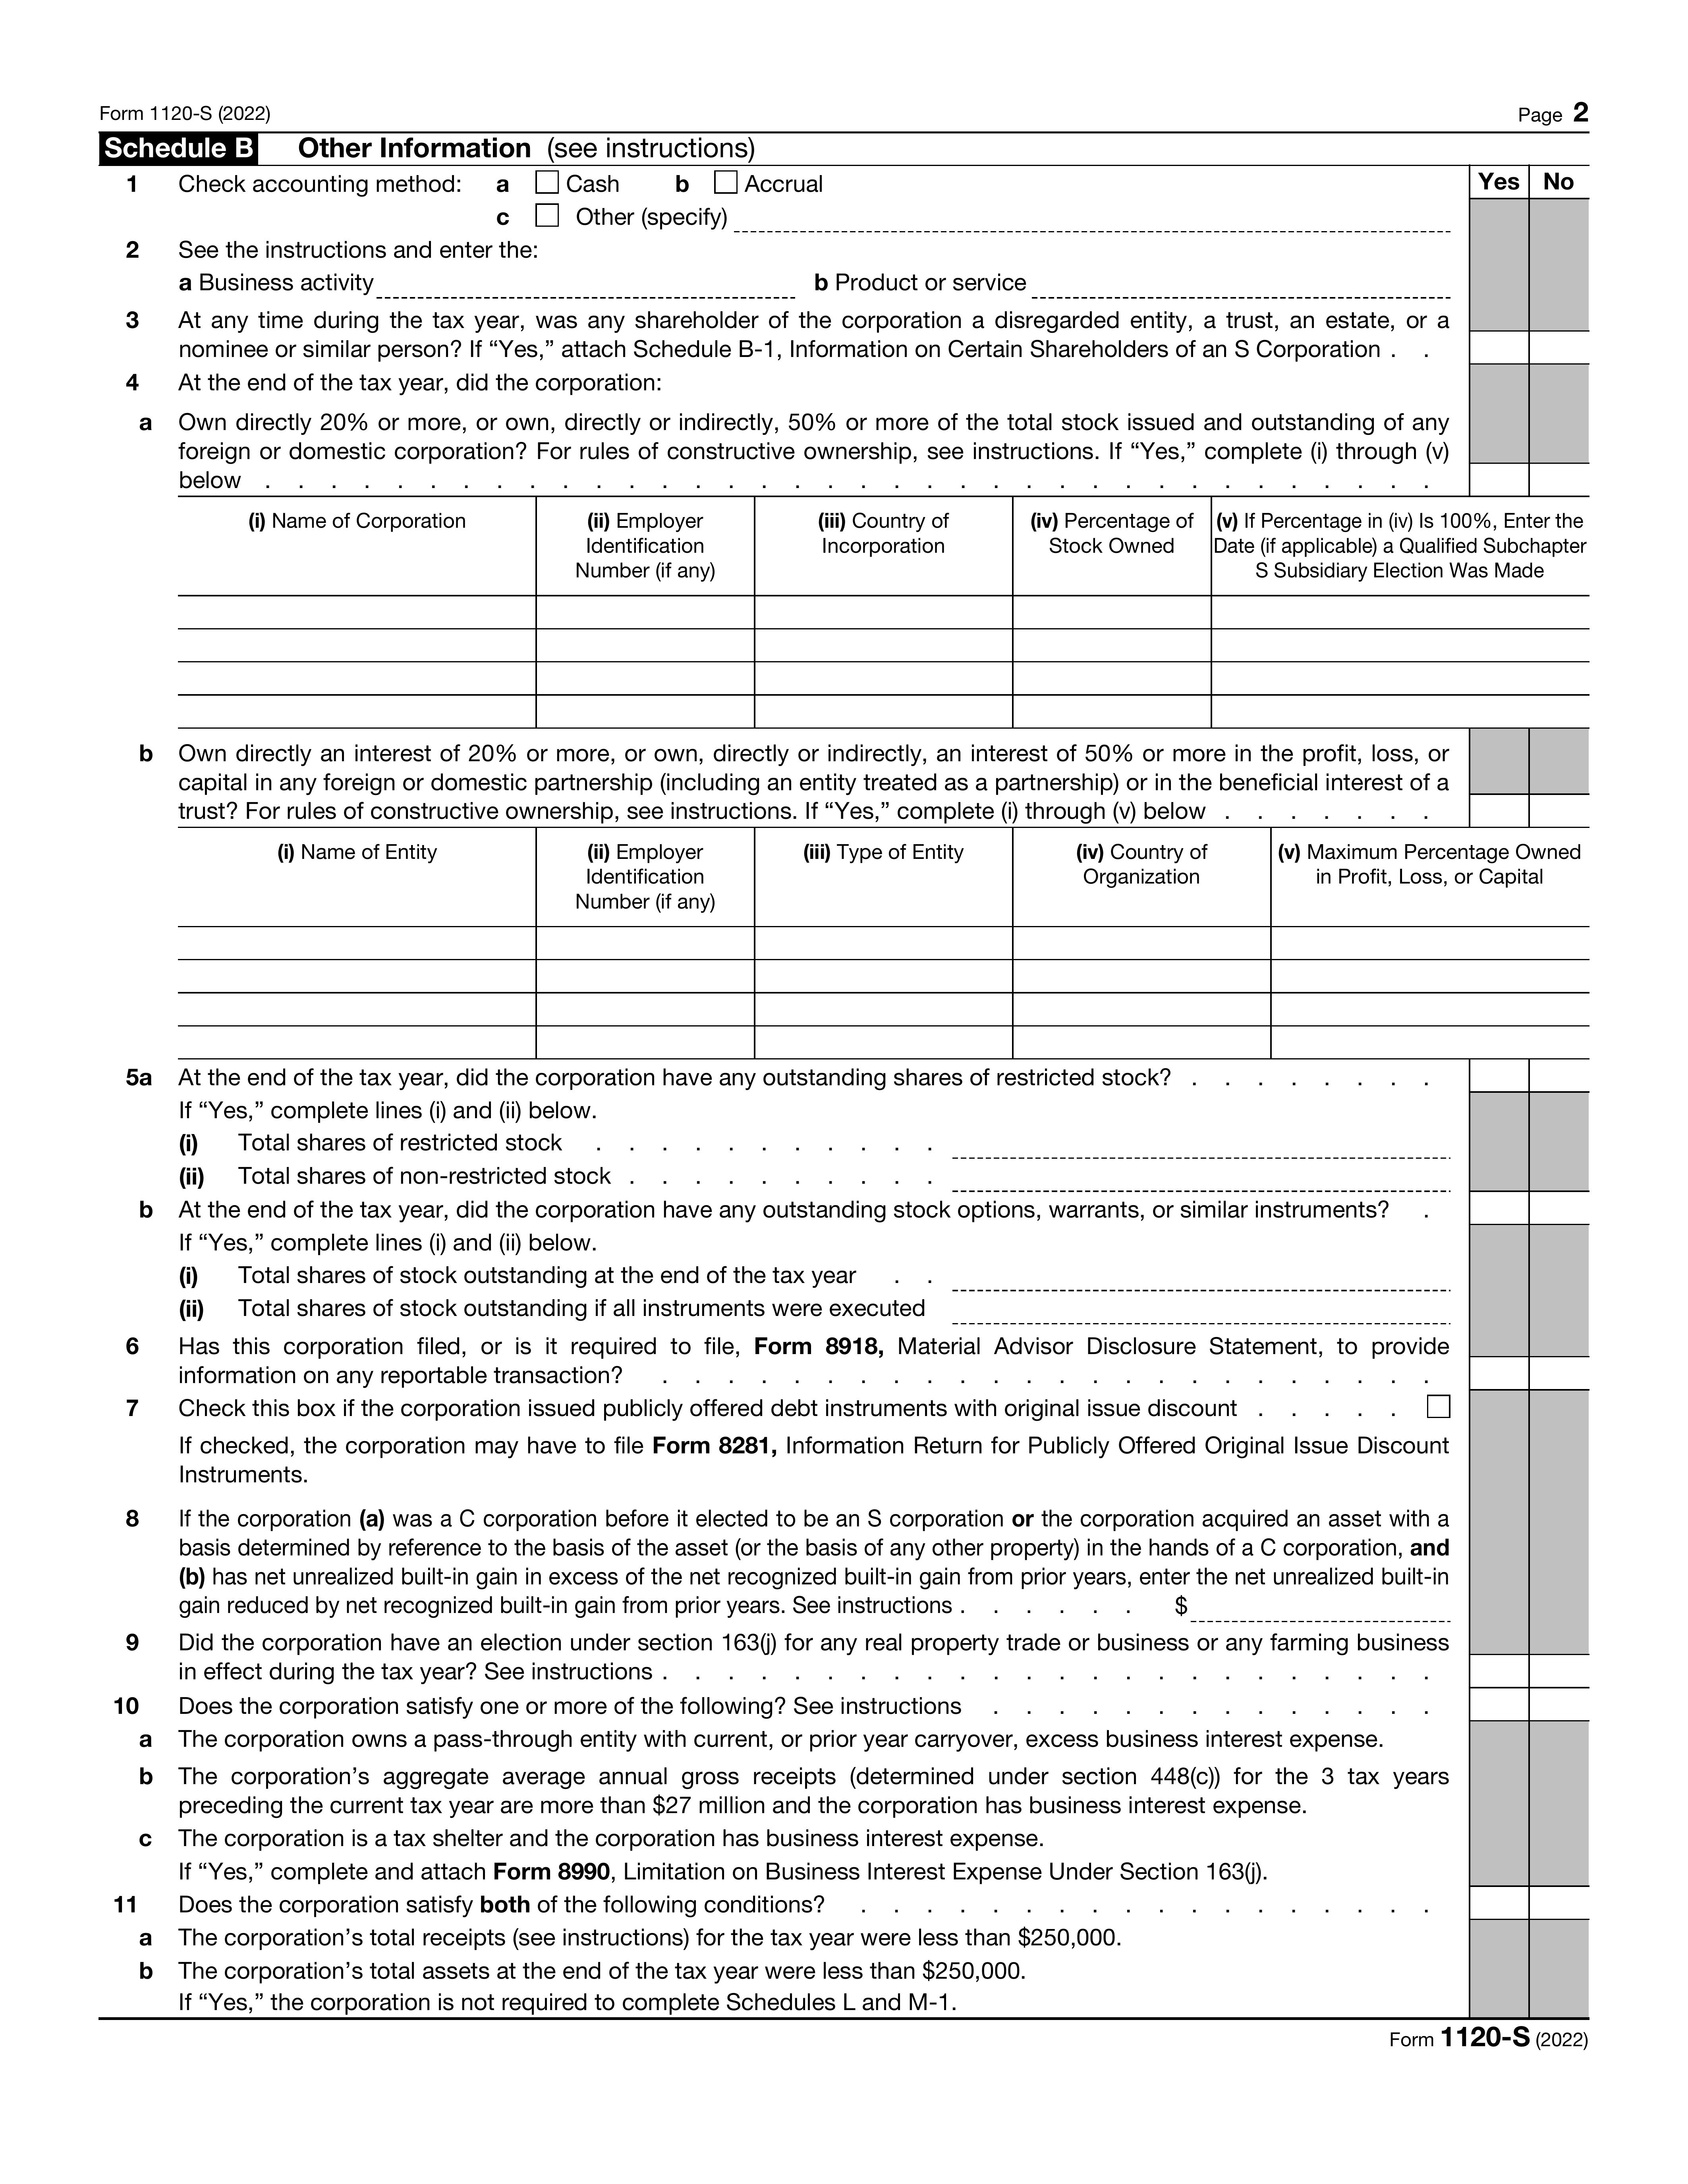table: (92, 1058, 1605, 2021), (101, 165, 1599, 500), (92, 828, 1612, 1058), (101, 500, 1605, 725), (98, 723, 1606, 828)
